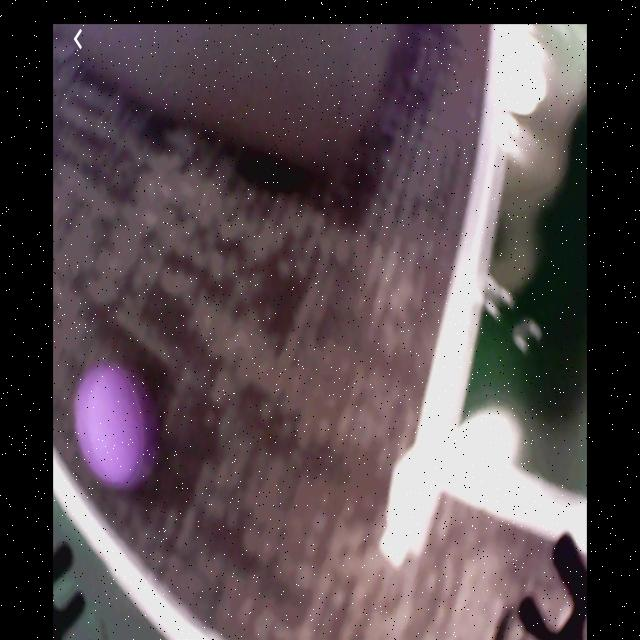ball: (75, 354, 151, 491)
